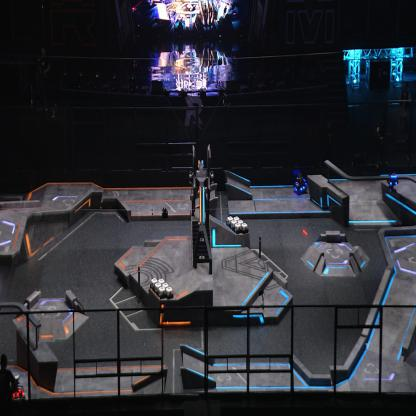car: (8, 374, 24, 402), (293, 173, 307, 195)
